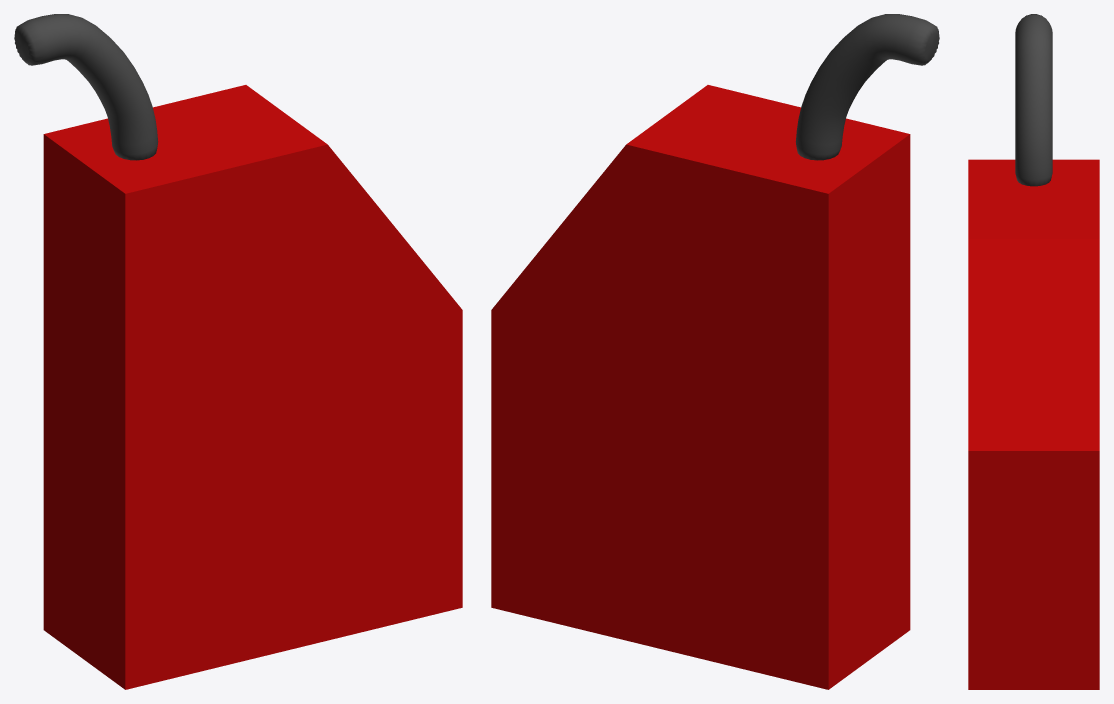
Rendered from fuel.fbx.
3 renders of one model, left to right at view 1: azimuth 30°, elevation 25°; view 2: azimuth 150°, elevation 25°; view 3: azimuth 270°, elevation 25°, orthographic. The views are drawn at different scales.
Visible parts, largest first — view 1: pCube1, pCylinder1; view 2: pCube1, pCylinder1; view 3: pCube1, pCylinder1.
Part boxes in pixels (<box>): pCube1: <box>43,85,462,689</box>; pCylinder1: <box>14,14,158,160</box>; pCube1: <box>491,85,910,689</box>; pCylinder1: <box>795,14,939,160</box>; pCube1: <box>968,159,1099,689</box>; pCylinder1: <box>1015,14,1052,186</box>.
Bounding box in the file's own units: 4.23 × 6.57 × 1.49.
